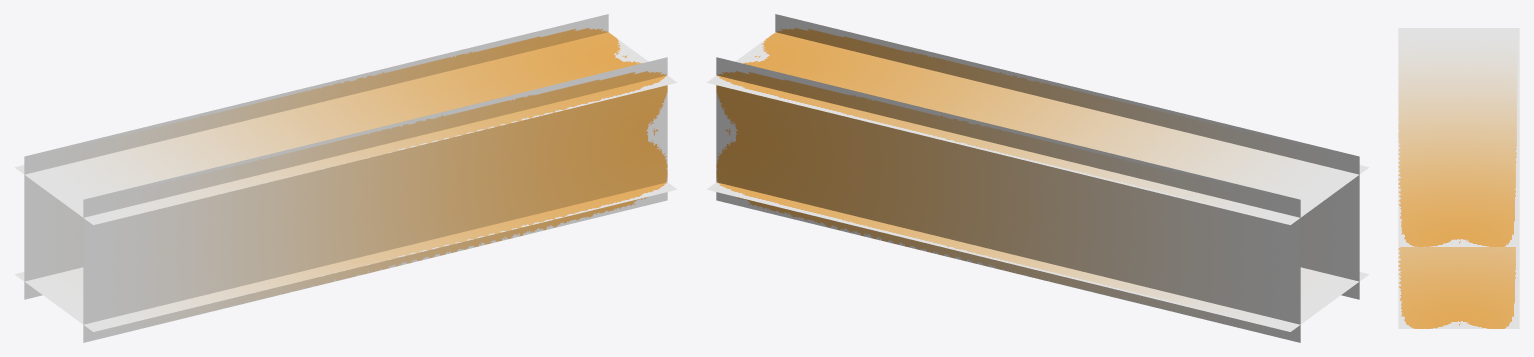
File: Sunbeam.fbx
3 views of the same model, side by side, from view 1: azimuth 30°, elevation 25°; view 2: azimuth 150°, elevation 25°; view 3: azimuth 270°, elevation 25° (orthographic). The views are drawn at different scales.
Visible parts, largest first — view 1: Plane; view 2: Plane; view 3: Plane.
Boxes of the visible parts, <box> form: Plane: <box>15,14,676,342</box>; Plane: <box>707,14,1368,342</box>; Plane: <box>1398,28,1519,328</box>.
Bounding box in the file's own units: 853 × 200 × 200.
1 material, 1 textured.
